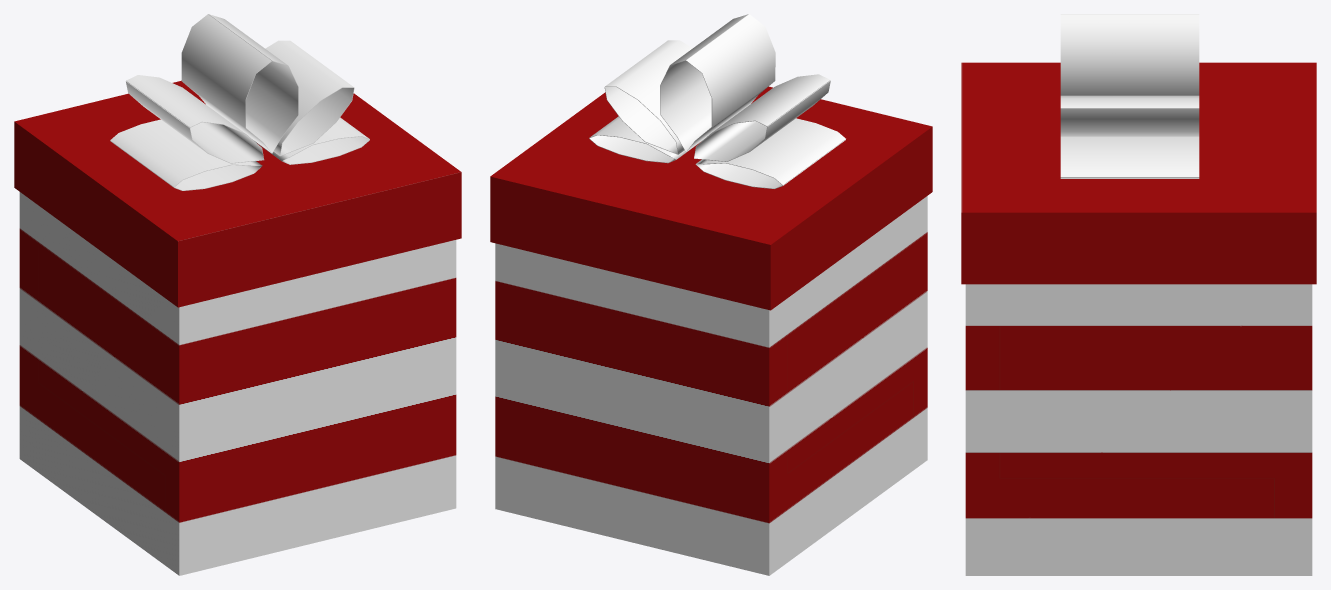
File: present_striped_ver2.fbx
The picture shows the model from 3 angles, left to right: view 1: azimuth 30°, elevation 25°; view 2: azimuth 150°, elevation 25°; view 3: azimuth 270°, elevation 25°; orthographic projection. The views are drawn at different scales.
Parts seen in each view (by area): view 1: Box, Top; view 2: Box, Top; view 3: Box, Top.
Part boxes in pixels (x1,y1,x2,y2): Box: (19, 192, 456, 575); Top: (14, 14, 461, 307); Box: (495, 196, 927, 575); Top: (490, 14, 932, 310); Box: (965, 284, 1312, 575); Top: (961, 14, 1316, 284).
Size of the model in its own units: 10.24 by 15.52 by 10.24.
